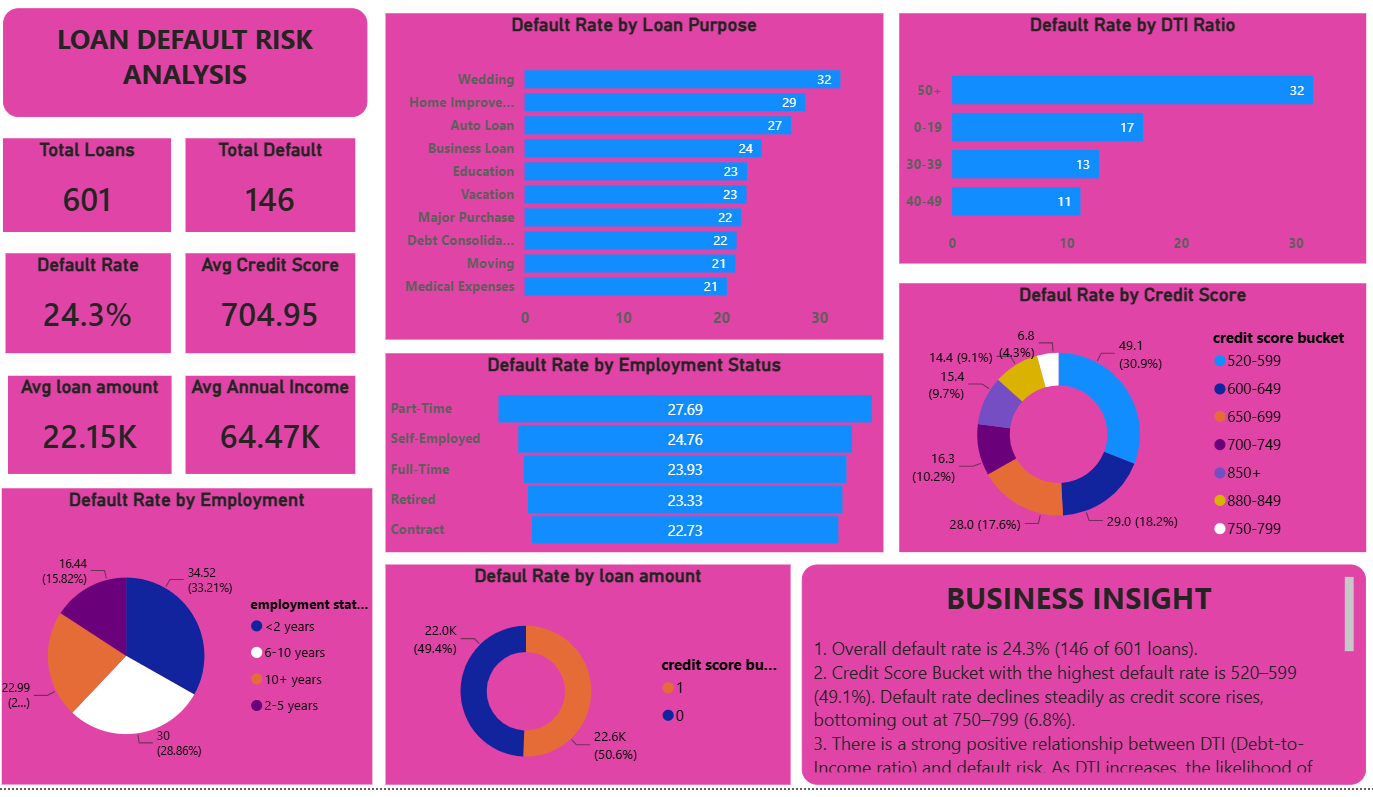

This screenshot's page, from the dashboard's own definition file:
{"tool":"powerbi","page":{"name":"Page 1","canvas":[1280,720],"ordinal":0},"visuals":[{"type":"textbox","box":[9.6,15.1,329.3,98.8],"z":0},{"type":"cardVisual","title":"Total Loans","fields":{"Data":["Count(loan_applications.loan_id)"]},"box":[9.6,131.7,152.3,85.1],"z":1000},{"type":"cardVisual","title":"Total Default","fields":{"Data":["Sum(loan_applications.defaulted)"]},"box":[174.3,131.7,153.7,85.1],"z":2000},{"type":"cardVisual","title":"Default Rate","fields":{"Data":["borrower_profiles.Default rate"]},"box":[11,236,149.6,90.6],"z":3000},{"type":"cardVisual","title":"Avg Credit Score","fields":{"Data":["Avg(borrower_profiles.credit_score)"]},"box":[174.3,236,153.7,90.6],"z":4000},{"type":"cardVisual","title":"Avg Annual Income","fields":{"Data":["Avg(borrower_profiles.annual_income)"]},"box":[174.3,347.2,153.7,89.2],"z":5000},{"type":"cardVisual","title":"Avg loan amount","fields":{"Data":["Avg(loan_applications.loan_amount)"]},"box":[13.7,347.2,148.2,89.2],"z":6000},{"type":"barChart","title":"Default Rate by Loan Purpose","fields":{"Category":["output q 4 default late by loan purposes.loan_purpose"],"Y":["Sum(output q 4 default late by loan purposes.default_percent)"]},"box":[355.4,19.2,450.1,295],"z":7000},{"type":"barChart","title":"Default Rate by DTI Ratio","fields":{"Category":["output q 3 default late by dti.dti_ratio_bucket"],"Y":["Sum(output q 3 default late by dti.default_percent)"]},"box":[819.2,19.2,422.6,226.4],"z":8000},{"type":"funnel","title":"Default Rate by Employment Status","fields":{"Category":["output q 6 default rate by employement status.employment_status"],"Y":["Sum(output q 6 default rate by employement status.default_percent)"]},"box":[355.4,326.6,450.1,179.8],"z":9000},{"type":"donutChart","title":"Default Rate by Credit Score","fields":{"Category":["output q 2.credit_score_bucket"],"Y":["Sum(output q 2.default_percent)"]},"box":[819.2,263.5,422.6,242.9],"z":10000},{"type":"pieChart","title":"Default Rate by Employment","fields":{"Category":["output q 7 default rate by employement tenure.employment_tenure"],"Y":["Sum(output q 7 default rate by employement tenure.default_percent)"]},"box":[8,449,335,268],"z":11000},{"type":"donutChart","title":"Default Rate by loan amount","fields":{"Category":["output q 5 default by loan amount.defaulted"],"Y":["Sum(output q 5 default by loan amount.avg_loan_amount)"]},"box":[355.4,517.3,366.4,199],"z":12000},{"type":"textbox","box":[731.4,517.3,510.5,199],"z":13000}]}

Visuals, with their boxes in screenshot pixels (x1, y1, x2, y2):
textbox: rect(7, 9, 368, 118)
"Total Loans" cardVisual: rect(7, 137, 174, 231)
"Total Default" cardVisual: rect(188, 137, 356, 231)
"Default Rate" cardVisual: rect(8, 252, 173, 351)
"Avg Credit Score" cardVisual: rect(188, 252, 356, 351)
"Avg Annual Income" cardVisual: rect(188, 374, 356, 471)
"Avg loan amount" cardVisual: rect(11, 374, 174, 471)
"Default Rate by Loan Purpose" barChart: rect(386, 14, 880, 337)
"Default Rate by DTI Ratio" barChart: rect(895, 14, 1358, 262)
"Default Rate by Employment Status" funnel: rect(386, 351, 880, 548)
"Default Rate by Credit Score" donutChart: rect(895, 282, 1358, 548)
"Default Rate by Employment" pieChart: rect(5, 485, 373, 779)
"Default Rate by loan amount" donutChart: rect(386, 560, 788, 778)
textbox: rect(799, 560, 1358, 778)
